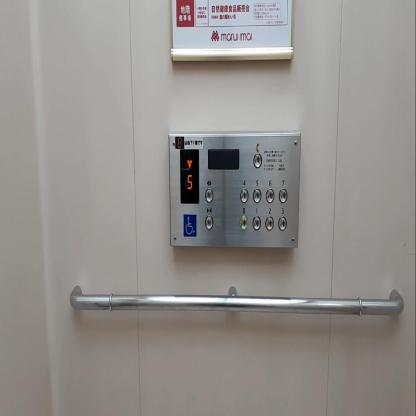CH: (183, 213, 196, 237)
led: (179, 146, 200, 205), (206, 146, 240, 171)
unknown: (278, 188, 288, 203), (265, 188, 275, 202), (252, 153, 262, 167), (240, 187, 249, 202), (240, 215, 249, 230), (252, 215, 261, 230), (278, 216, 287, 230), (205, 188, 213, 203), (205, 215, 213, 229), (253, 188, 261, 202), (265, 216, 273, 230)
